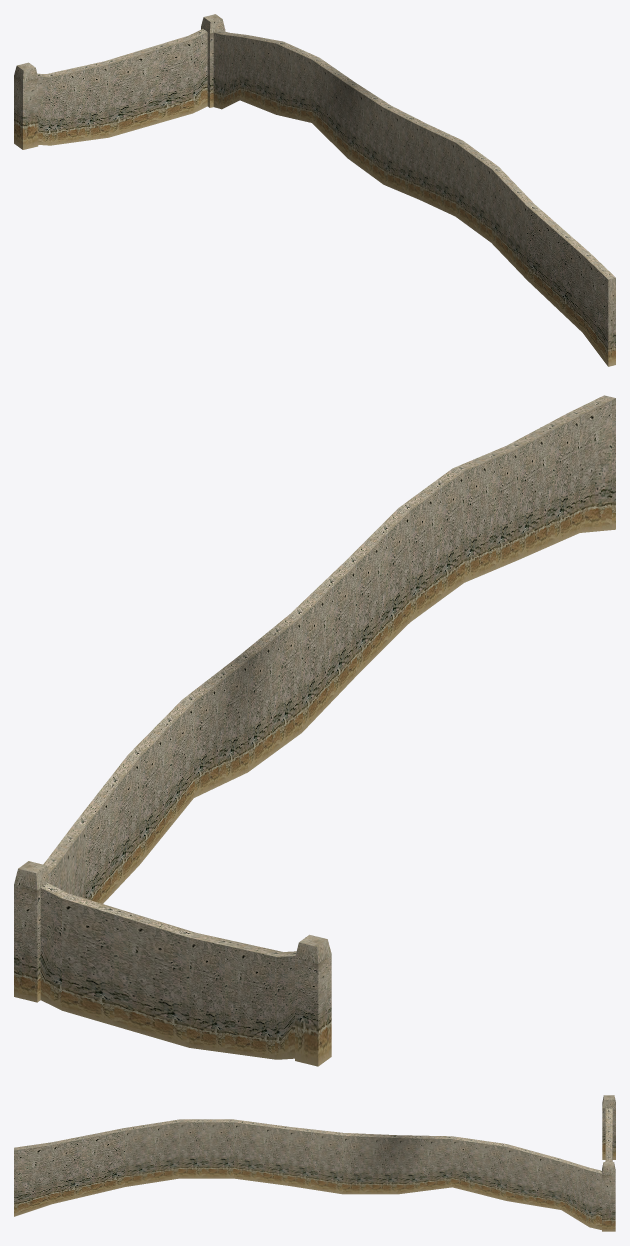
The model's file is Mission8_VillageWall05.glb.
3 views of the same model, one above another, from view 1: azimuth 30°, elevation 25°; view 2: azimuth 150°, elevation 25°; view 3: azimuth 270°, elevation 25° (orthographic). The views are drawn at different scales.
Visible parts, largest first — view 1: MISSION8_VILLAGEWALL05; view 2: MISSION8_VILLAGEWALL05; view 3: MISSION8_VILLAGEWALL05.
Part boxes in pixels (x1,y1,x2,y2): MISSION8_VILLAGEWALL05: (14, 14, 615, 366); MISSION8_VILLAGEWALL05: (14, 395, 615, 1066); MISSION8_VILLAGEWALL05: (14, 1095, 615, 1231).
Size of the model in its own units: 13.26 by 9.18 by 44.13.
Materials: 2 (2 with a texture image).
